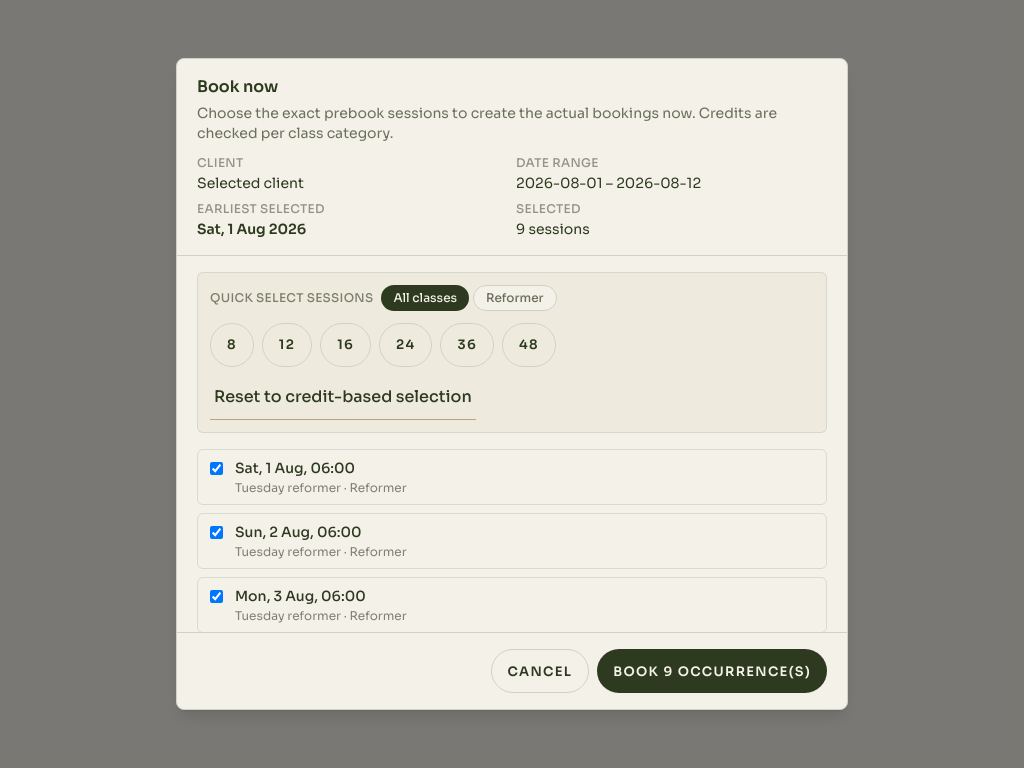
Test: MaterializeClientDialog › applies a successful quick-select count and labels unchecked rows as not selected
The width and height of the screenshot is (1024, 768).
Click the button "8": {"x": 232, "y": 345} [210,323,254,367]
(page scrolled)
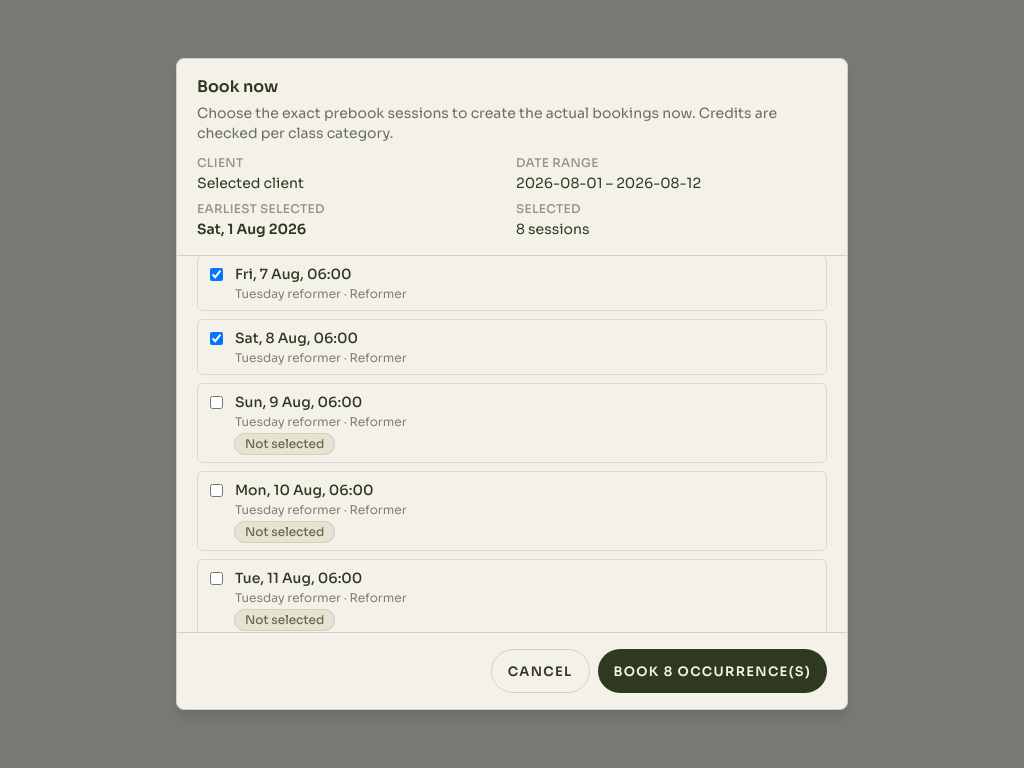
Expected: the button "Book 8 occurrence(s)" is enabled, [598,649,827,693]
Expected: the text "Not selected" below "Sun, 9 Aug, 06:00" is shown, [245,436,324,451]
